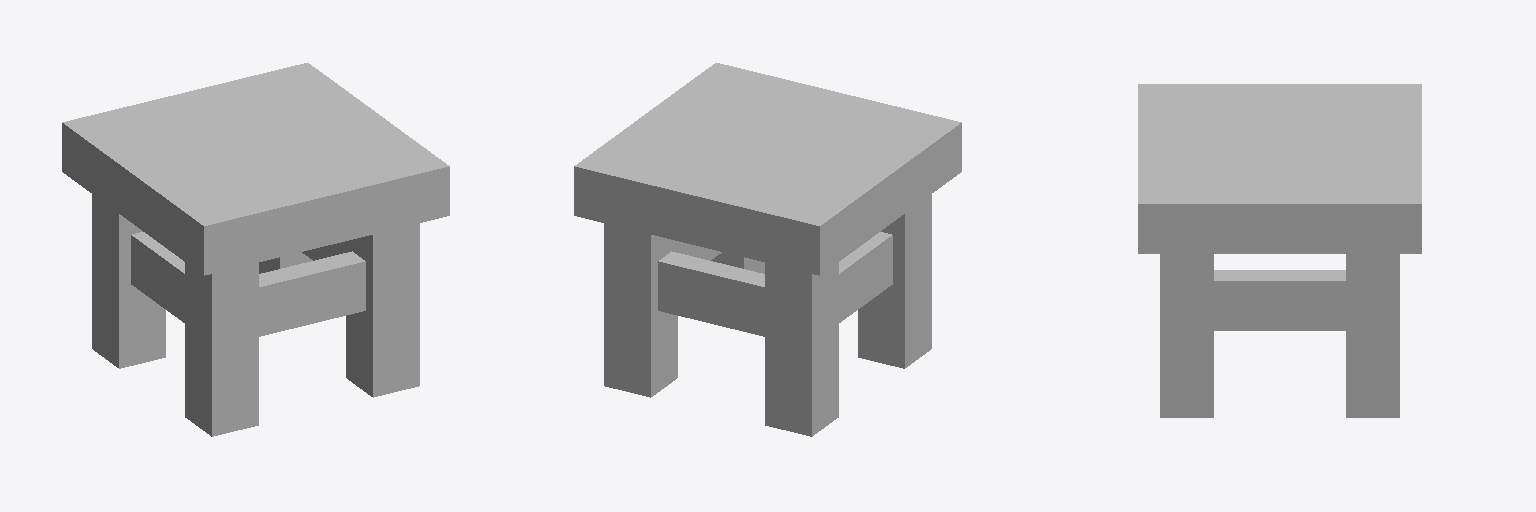
The model's file is stallStool.obj.
3 views of the same model, side by side, from view 1: azimuth 30°, elevation 25°; view 2: azimuth 150°, elevation 25°; view 3: azimuth 270°, elevation 25° (orthographic).
Parts seen in each view (by area): view 1: stallStool; view 2: stallStool; view 3: stallStool.
Part boxes in pixels (x1,y1,x2,y2): stallStool: (62,63,449,436); stallStool: (574,63,961,436); stallStool: (1138,84,1421,417).
Bounding box in the file's own units: 0.26 × 0.2255 × 0.26.